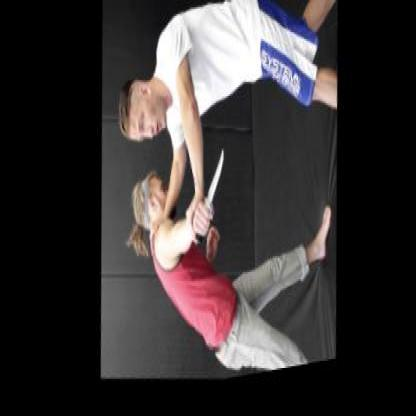knife: (188, 146, 230, 256)
